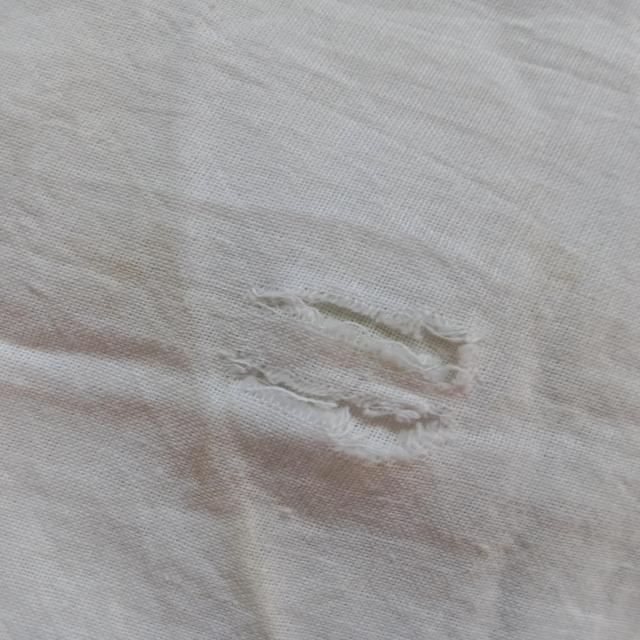cut: (210, 276, 480, 459)
